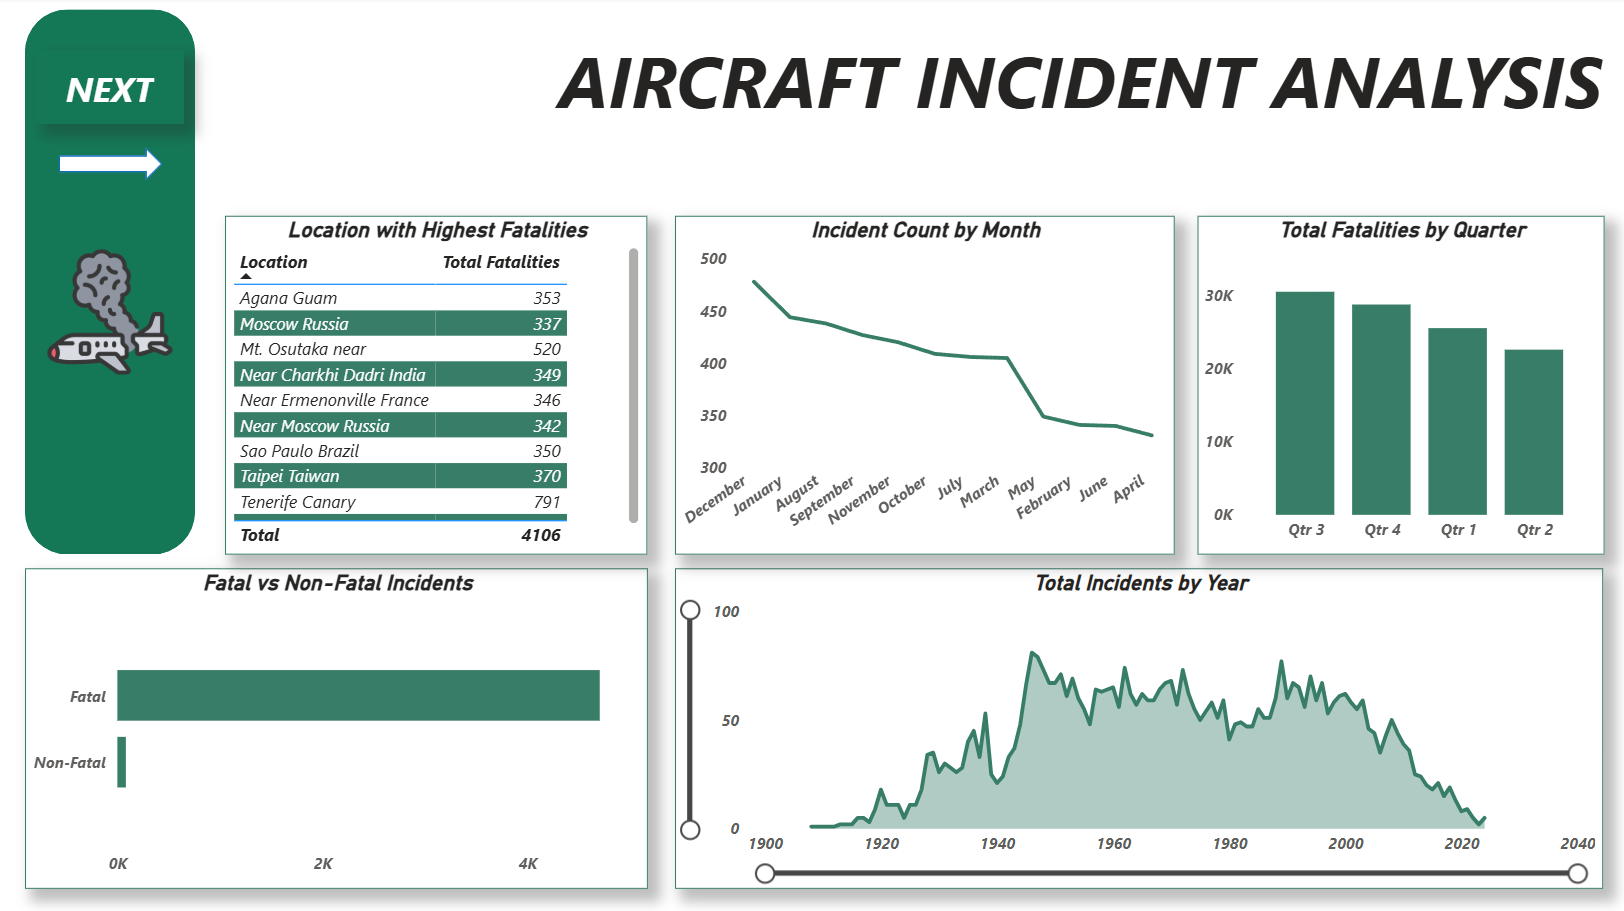

The page's visual inventory and layout, read from the dashboard file:
{"tool":"powerbi","page":{"name":"Dashboard 1","canvas":[1280,720],"ordinal":0},"visuals":[{"type":"lineChart","fields":{"Category":["air_crashes aircraft_incidents.Year"],"Y":["Aircraft_Incidents.Total Incidents"]},"box":[530.9,448.9,729.8,252.1],"z":0},{"type":"lineChart","fields":{"Y":["Aircraft_Incidents.Incident Count"],"Category":["Aircraft_Incidents.Month"]},"box":[530.9,172.2,392.6,266.5],"z":1000},{"type":"columnChart","fields":{"Category":["Aircraft_Incidents.Quarter"],"Y":["Aircraft_Incidents.Total Fatalities"]},"box":[940.9,172.2,319.8,266.5],"z":2000},{"type":"barChart","title":"Fatal vs Non-Fatal Incidents","fields":{"Category":["Aircraft_Incidents.Incident_Type"],"Y":["Aircraft_Incidents.Incident Count"]},"box":[19.5,448.9,489.9,252.1],"z":3000},{"type":"textbox","box":[417.2,21.5,863,97.4],"z":4000},{"type":"tableEx","title":"Location with Highest Fatalities","fields":{"Values":["Aircraft_Incidents.Location","Aircraft_Incidents.Total Fatalities"]},"box":[177.3,172.2,332.1,266.5],"z":5000},{"type":"shape","box":[19.5,0,134.3,438.7],"z":6000},{"type":"actionButton","title":"NEXT","box":[28.7,41,115.8,58.4],"z":7000},{"type":"shape","box":[46.1,106.6,82,25.6],"z":8000}]}

Visuals, with their boxes in screenshot pixels (x1, y1, x2, y2), scaled from the page's 1280x720 canvas onto the 1624x911 screenshot:
lineChart - air_crashes aircraft_incidents.Year x Aircraft_Incidents.Total Incidents: [x1=674, y1=568, x2=1600, y2=887]
lineChart - Aircraft_Incidents.Incident Count x Aircraft_Incidents.Month: [x1=674, y1=218, x2=1172, y2=555]
columnChart - Aircraft_Incidents.Quarter x Aircraft_Incidents.Total Fatalities: [x1=1194, y1=218, x2=1600, y2=555]
"Fatal vs Non-Fatal Incidents" barChart: [x1=25, y1=568, x2=646, y2=887]
textbox: [x1=529, y1=27, x2=1623, y2=150]
"Location with Highest Fatalities" tableEx: [x1=225, y1=218, x2=646, y2=555]
shape: [x1=25, y1=0, x2=195, y2=555]
"NEXT" actionButton: [x1=36, y1=52, x2=183, y2=126]
shape: [x1=58, y1=135, x2=163, y2=167]
